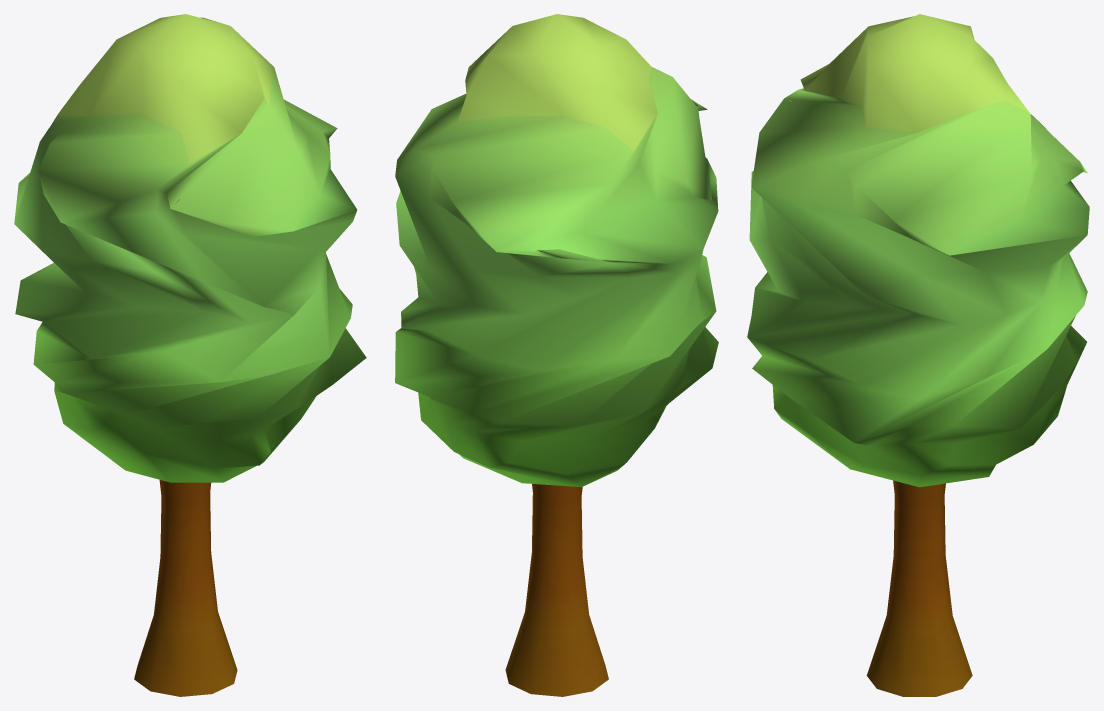
The model's file is Arvore.fbx.
3 views of the same model, side by side, from view 1: azimuth 30°, elevation 25°; view 2: azimuth 150°, elevation 25°; view 3: azimuth 270°, elevation 25° (orthographic).
Visible parts, largest first — view 1: Arvore; view 2: Arvore; view 3: Arvore.
Part boxes in pixels (x1,y1,x2,y2): Arvore: (14, 14, 366, 696); Arvore: (395, 14, 718, 696); Arvore: (747, 14, 1089, 696).
Size of the model in its own units: 641 by 1378 by 647.
1 material, 1 textured.
